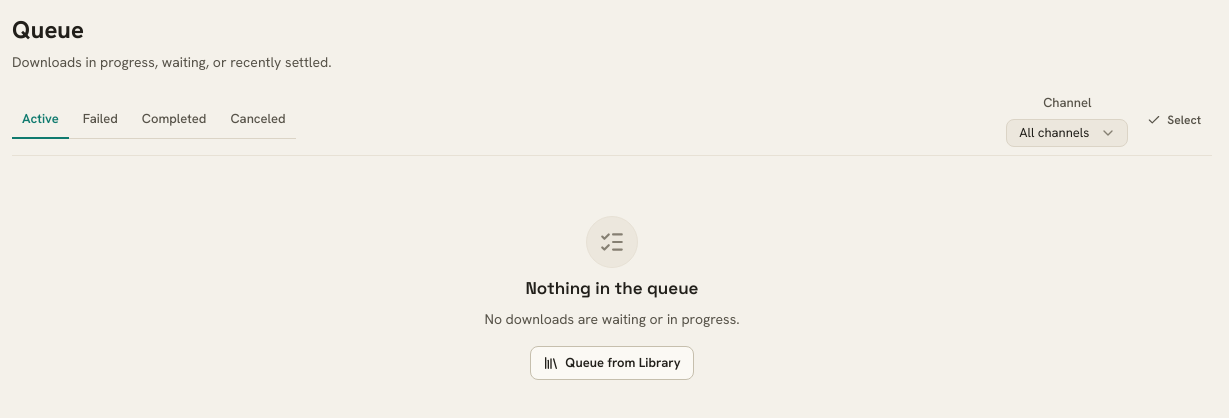
QueuePage — re-audit cosmetic backlog › §S6-12: a channel filter matching nothing shows a filtered-empty with a clear action
The width and height of the screenshot is (1229, 418).
Expected: the text "Nothing in the queue" is shown, [526,276,698,301]
Select "Channel One" in the dropdown labelled "Channel". click: (1067, 132)
box: [1006,118,1128,146]
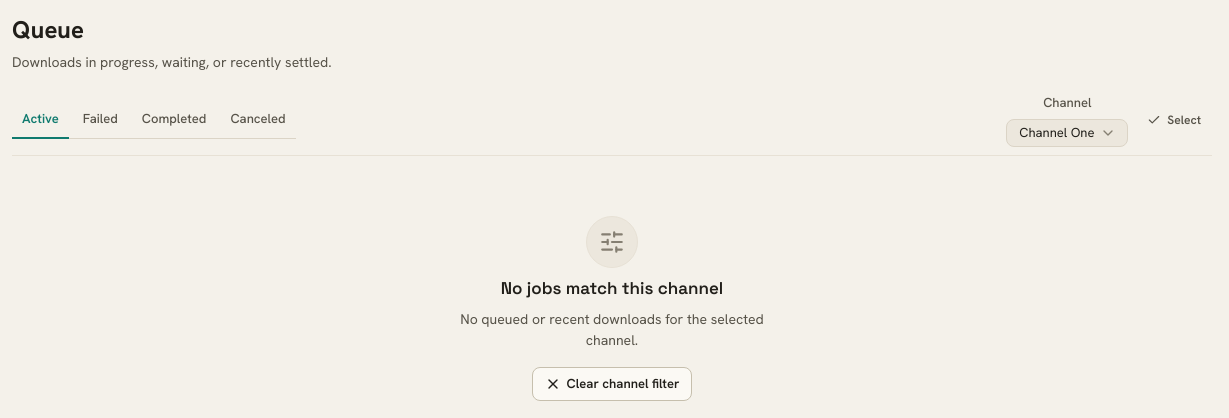
Expected: the text "No jobs match this channel" is shown, [501,276,723,301]
Expected: the button "Clear channel filter" is shown, [532,367,692,401]
